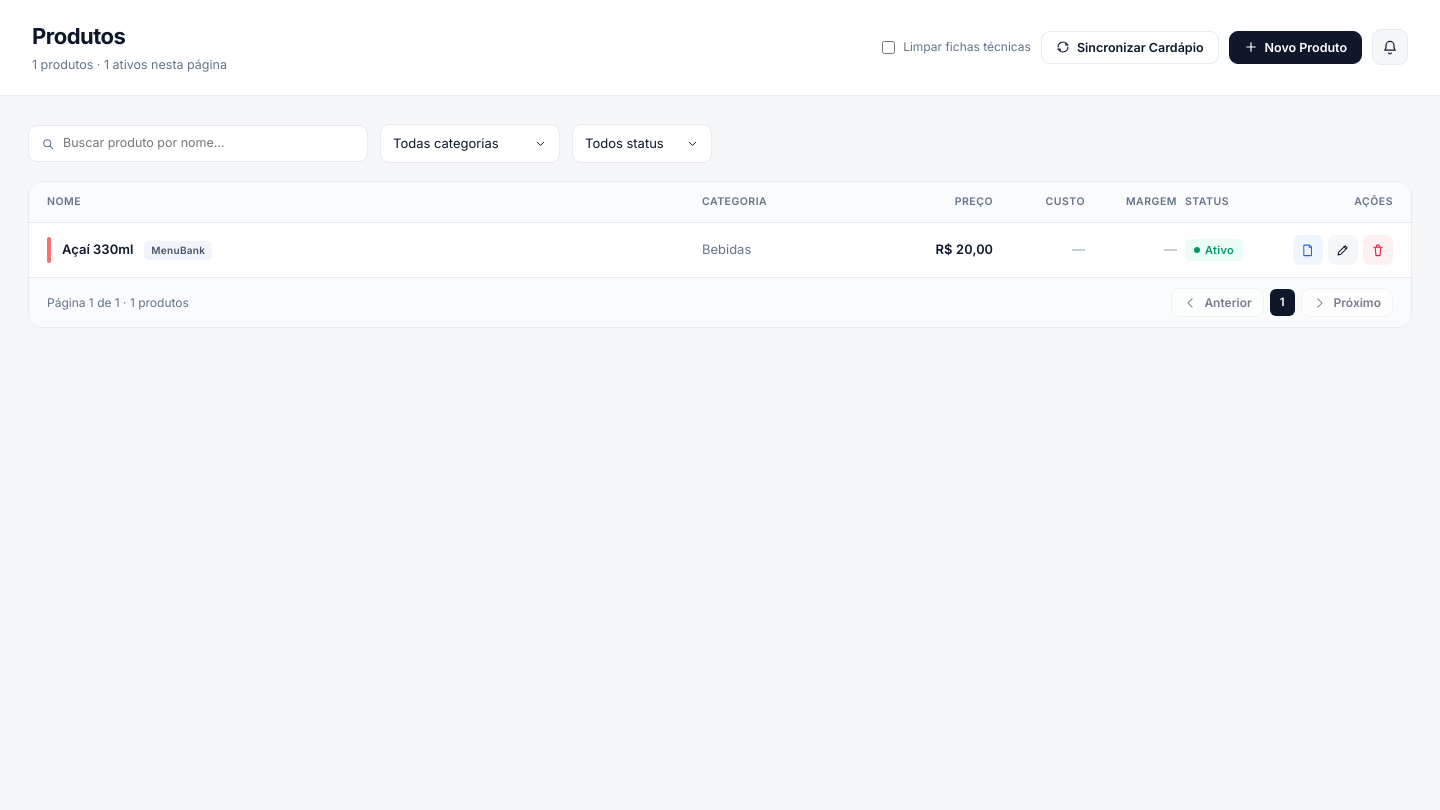
it: ProductsView › should render grouped sections when there are PACKAGING items
Click the element with test id "product-p1-recipe-button" at (1308, 250), box [1293,235,1323,265]
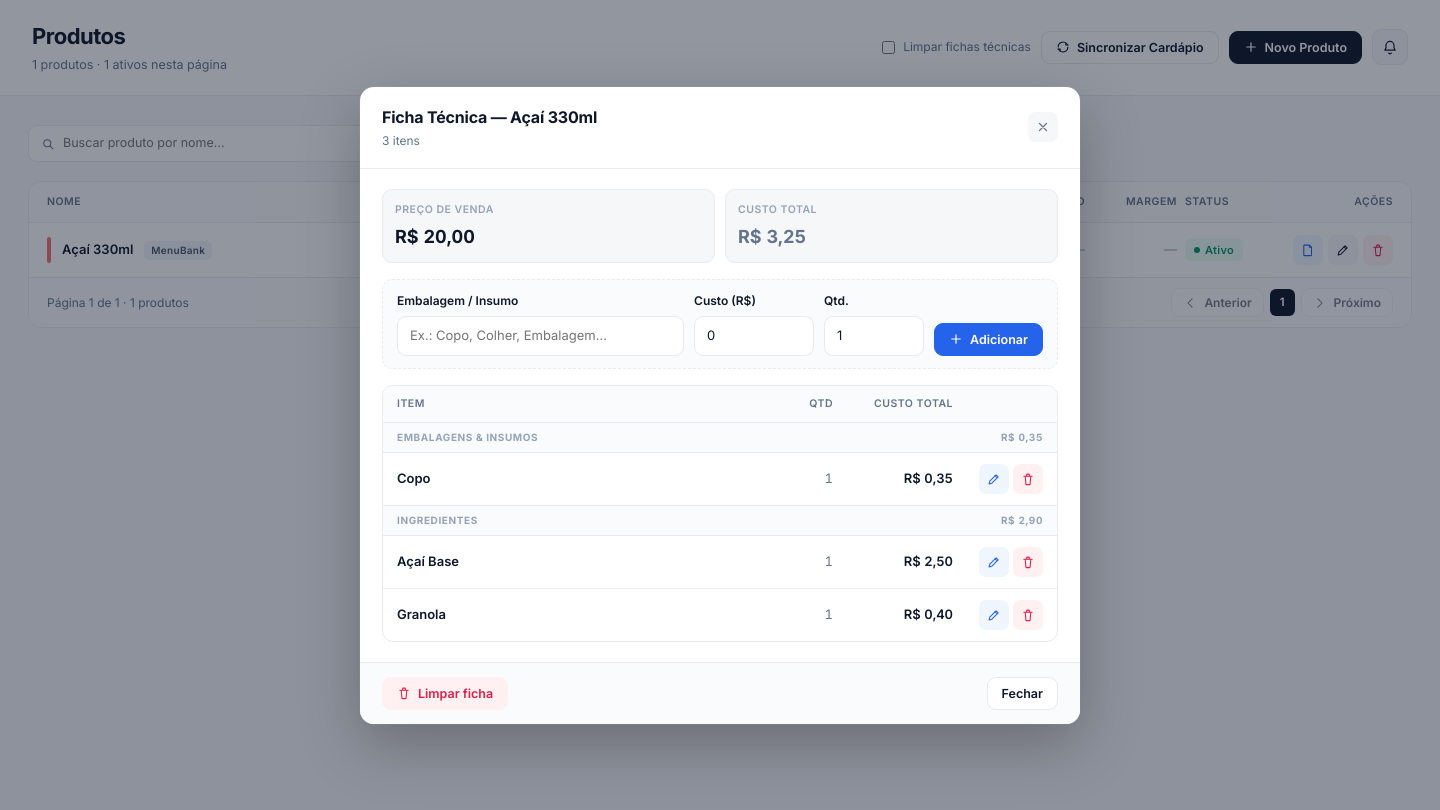
Now the text "Ingredientes" is shown, box [397,512,478,528]
Now the text "Embalagens" is shown, box [397,430,538,442]
Now the text "Açaí Base" is shown, box [397,553,459,569]
